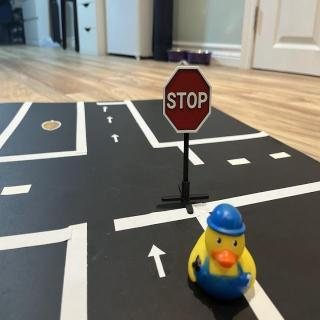duck_specialty: (188, 203, 258, 302)
road_oneway: (148, 244, 170, 280), (111, 133, 122, 147), (107, 116, 115, 126), (103, 105, 111, 115)
sign_stop: (165, 69, 213, 133)
